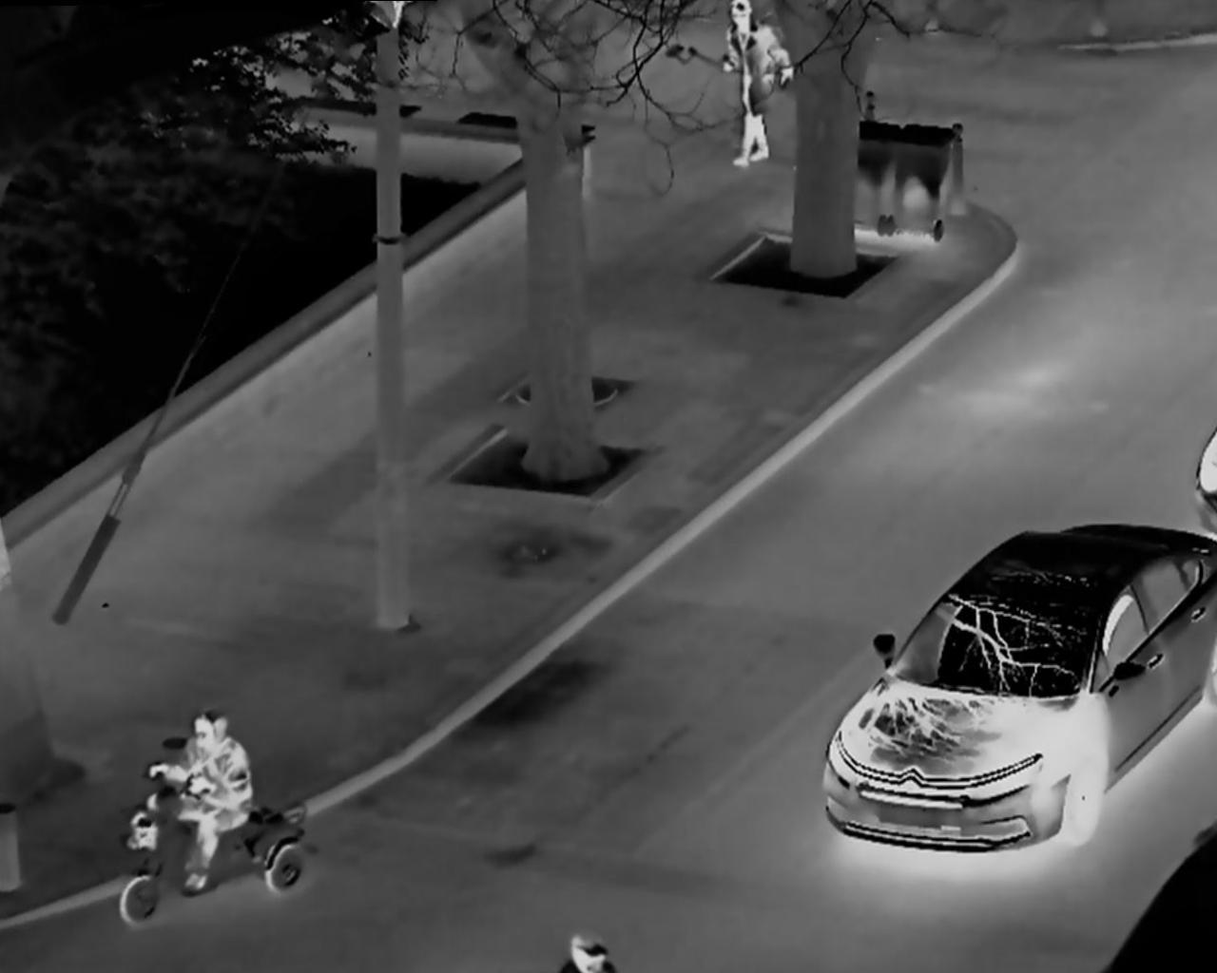person: (140, 689, 271, 905), (553, 931, 623, 973)
